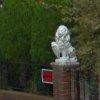Statue: (39, 18, 79, 75)
